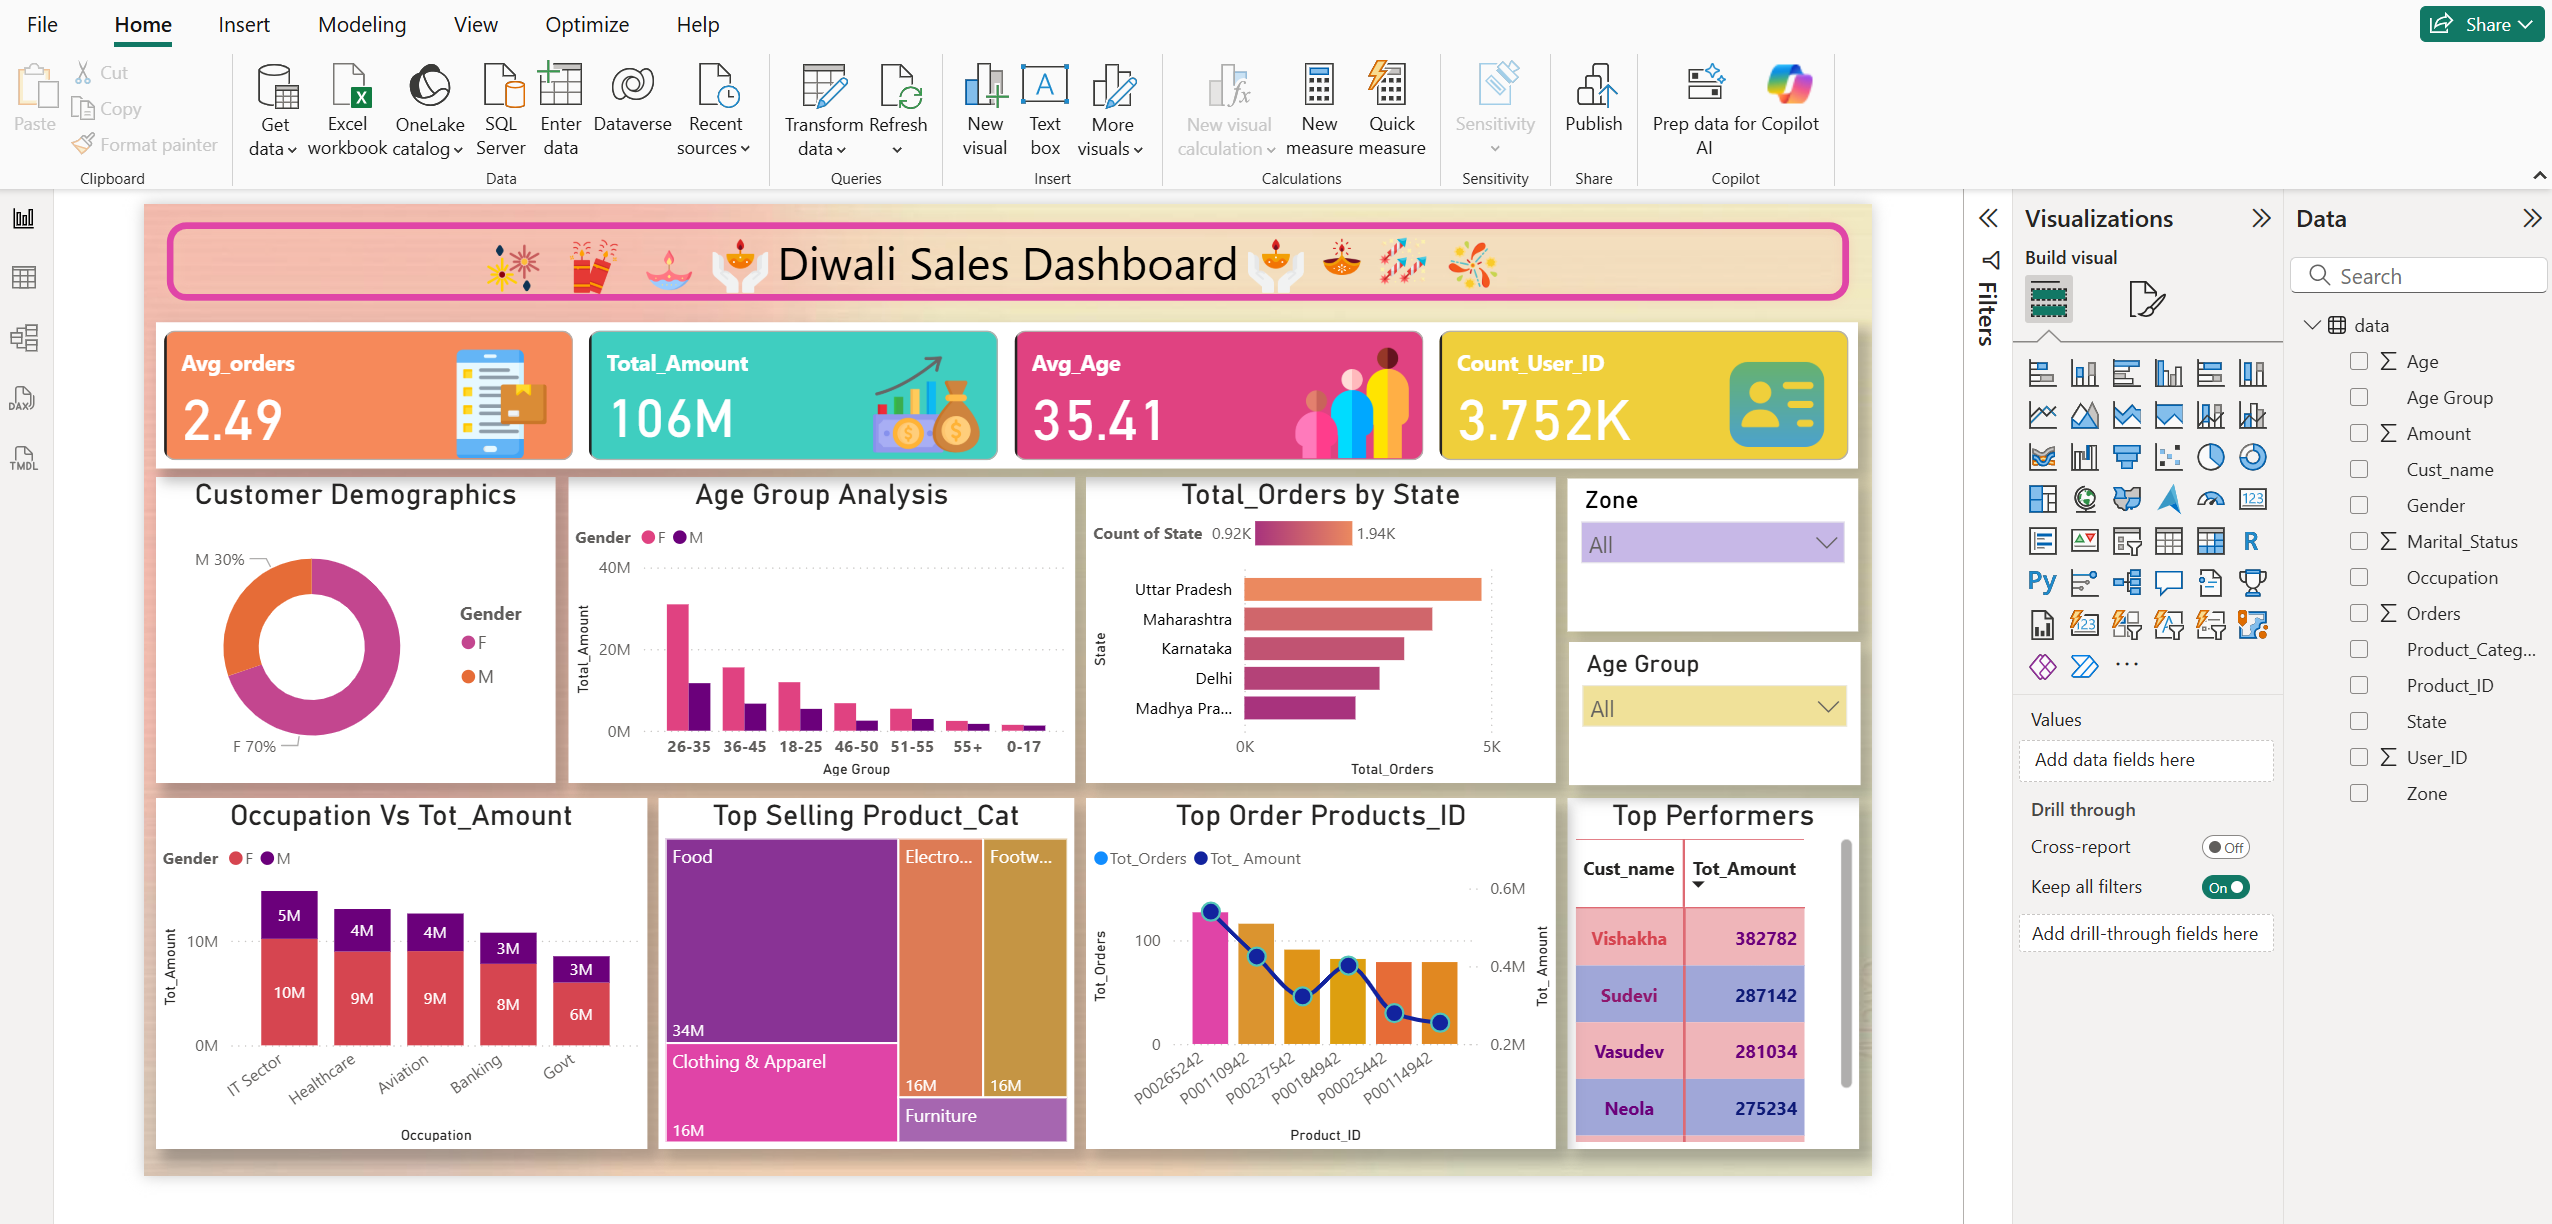

What the dashboard file says about the page in this screenshot:
{"tool":"powerbi","page":{"name":"Page 1","canvas":[1280,720],"ordinal":0},"visuals":[{"type":"donutChart","title":"Customer Demographics","fields":{"Category":["data.Gender"],"Y":["data.Amount"]},"box":[9.4,202.7,296.3,226.6],"z":0},{"type":"clusteredColumnChart","title":"Age Group Analysis","fields":{"Category":["data.Age Group"],"Y":["data.Amount"],"Series":["data.Gender"]},"box":[313.9,202.7,375.3,226.6],"z":1000},{"type":"columnChart","title":"Occupation Vs Tot_Amount","fields":{"Category":["data.Occupation"],"Y":["data.Amount"],"Series":["data.Gender"]},"box":[9.4,439.7,363.8,259.9],"z":2000},{"type":"treemap","title":"Top Selling Product_Cat","fields":{"Group":["data.Product_Category"],"Values":["data.Sales"]},"box":[381.5,439.7,307.7,259.9],"z":3000},{"type":"clusteredBarChart","fields":{"Category":["data.State"],"Y":["data.Orders"]},"box":[697.5,202.7,348.2,226.6],"z":4000},{"type":"tableEx","title":"Top Performers","fields":{"Values":["data.Cust_name","data.Sales"]},"box":[1054,439.7,216.2,259.9],"z":5000},{"type":"lineStackedColumnComboChart","title":"Top Order Products_ID","fields":{"Category":["data.Product_ID"],"Y":["data.Orders"],"Y2":["data.Sales"]},"box":[697.5,439.7,348.2,259.9],"z":6000},{"type":"cardVisual","fields":{"Data":["data.Orders","data.Amount","data.Age","data.User_ID"]},"box":[9.4,87.3,1260.9,108.1],"z":7000},{"type":"slicer","fields":{"Values":["data.Zone"]},"box":[1054.4,202.8,215.5,113.6],"z":8000},{"type":"slicer","fields":{"Values":["data.Age Group"]},"box":[1055.6,324.1,215.7,106.1],"z":9000},{"type":"shape","box":[9.1,5.7,1262.1,74.2],"z":10000},{"type":"image","box":[810.9,18.2,54.5,55.5],"z":11000},{"type":"image","box":[414.5,18.2,54.5,55.5],"z":12000},{"type":"image","box":[907.8,17.8,48.9,48.9],"z":13000},{"type":"image","box":[867.1,17.9,40.7,42.9],"z":14000},{"type":"image","box":[961.4,22.1,46.4,46.4],"z":15000},{"type":"image","box":[305.7,18.6,55,55],"z":16000},{"type":"image","box":[366.4,26.4,45,44.3],"z":17000},{"type":"image","box":[248.6,22.1,49.3,50],"z":18000}]}

Visuals, with their boxes on the page's 1280x720 design canvas (x1, y1, x2, y2). These are canvas units, not pixel positions in the 2552x1224 screenshot, which may show the page scaled, cropped or inside an application window:
"Customer Demographics" donutChart: bbox=(9, 203, 306, 429)
"Age Group Analysis" clusteredColumnChart: bbox=(314, 203, 689, 429)
"Occupation Vs Tot_Amount" columnChart: bbox=(9, 440, 373, 700)
"Top Selling Product_Cat" treemap: bbox=(382, 440, 689, 700)
clusteredBarChart - data.State x data.Orders: bbox=(698, 203, 1046, 429)
"Top Performers" tableEx: bbox=(1054, 440, 1270, 700)
"Top Order Products_ID" lineStackedColumnComboChart: bbox=(698, 440, 1046, 700)
cardVisual - data.Orders x data.Amount: bbox=(9, 87, 1270, 195)
slicer - data.Zone: bbox=(1054, 203, 1270, 316)
slicer - data.Age Group: bbox=(1056, 324, 1271, 430)
shape: bbox=(9, 6, 1271, 80)
image: bbox=(811, 18, 865, 74)
image: bbox=(414, 18, 469, 74)
image: bbox=(908, 18, 957, 67)
image: bbox=(867, 18, 908, 61)
image: bbox=(961, 22, 1008, 68)
image: bbox=(306, 19, 361, 74)
image: bbox=(366, 26, 411, 71)
image: bbox=(249, 22, 298, 72)
